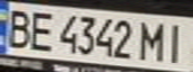2: (112, 16, 139, 61)
3: (75, 12, 100, 56)
4: (54, 11, 81, 55), (93, 15, 118, 58)
B: (0, 6, 36, 49)
E: (24, 8, 60, 53)
I: (160, 19, 193, 63)
M: (139, 18, 169, 62)
